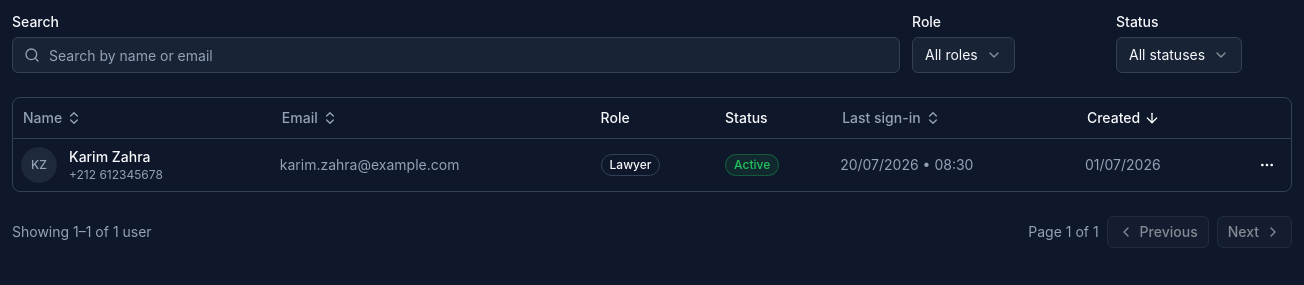
Test case: UserDirectory › hides row actions the caller lacks the permission for
Expected: the link "Karim Zahra" is shown, [69, 146, 163, 166]
Click the button named "Actions for Karim Zahra": (1267, 164) [1251, 148, 1283, 180]
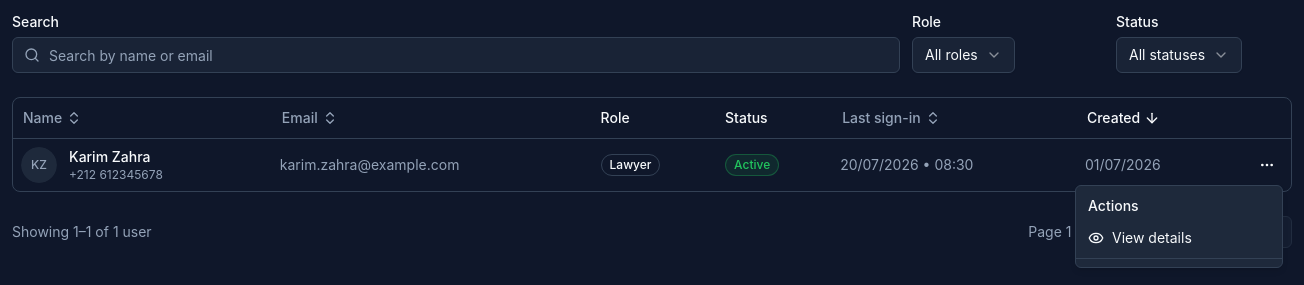
Expected: the menu item "View details" is shown, [1088, 229, 1192, 246]
